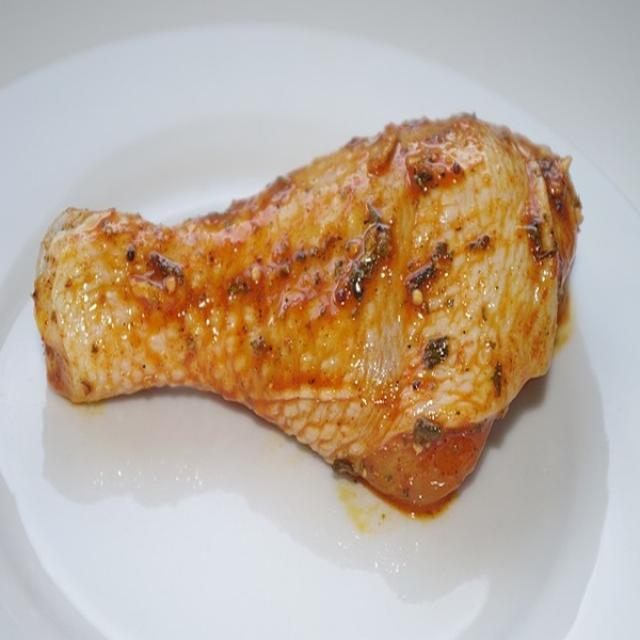CHICKEN FRY: (29, 113, 576, 514)
